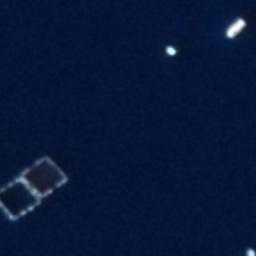square_solid: (16, 151, 73, 204), (1, 175, 45, 225)
